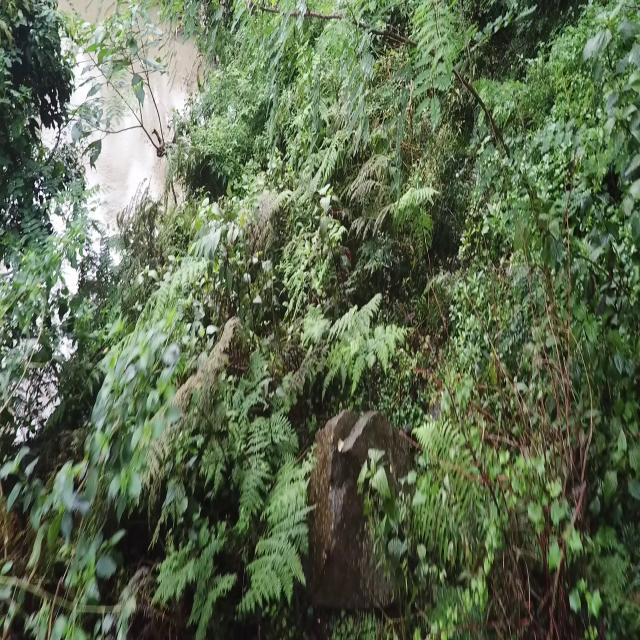Mysore-Thorn-Weed: (143, 0, 530, 142), (470, 94, 590, 418)
